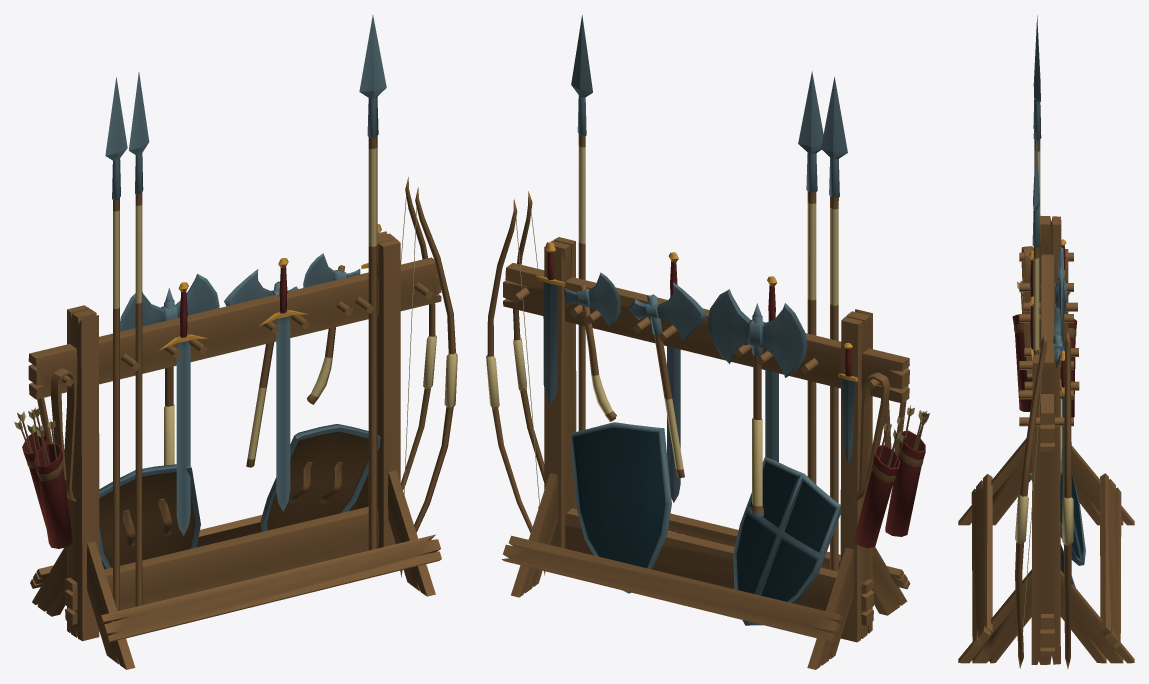
Rendered from obj_weaponRack_full_LOW.FBX.
The picture shows the model from 3 angles, left to right: view 1: azimuth 30°, elevation 25°; view 2: azimuth 150°, elevation 25°; view 3: azimuth 270°, elevation 25°; orthographic projection. The views are drawn at different scales.
Visible parts, largest first — view 1: obj_weaponRack_full_LOW; view 2: obj_weaponRack_full_LOW; view 3: obj_weaponRack_full_LOW.
Boxes of the visible parts, x1=… form: obj_weaponRack_full_LOW: x1=14, y1=15, x2=457, y2=669; obj_weaponRack_full_LOW: x1=486, y1=15, x2=929, y2=669; obj_weaponRack_full_LOW: x1=958, y1=15, x2=1134, y2=669.
Size of the model in its own units: 6.4 by 8.06 by 2.43.
